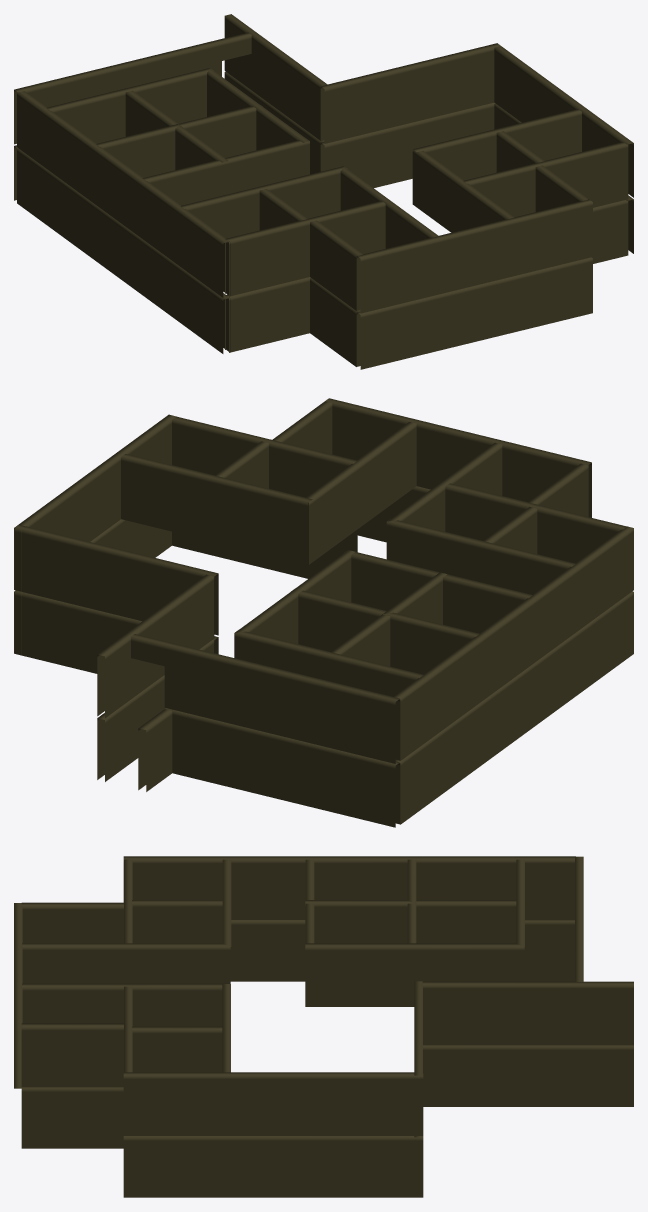
File: Wall.fbx
3 views of the same model, one above another, from view 1: azimuth 30°, elevation 25°; view 2: azimuth 150°, elevation 25°; view 3: azimuth 270°, elevation 25° (orthographic). The views are drawn at different scales.
Parts seen in each view (by area): view 1: Prison_Wall; view 2: Prison_Wall; view 3: Prison_Wall.
Boxes of the visible parts, x1,y1,x2,y2 form: Prison_Wall: (14,14,633,369); Prison_Wall: (14,398,633,827); Prison_Wall: (14,856,633,1197).
Bounding box in the file's own units: 3201 × 828 × 3821.
